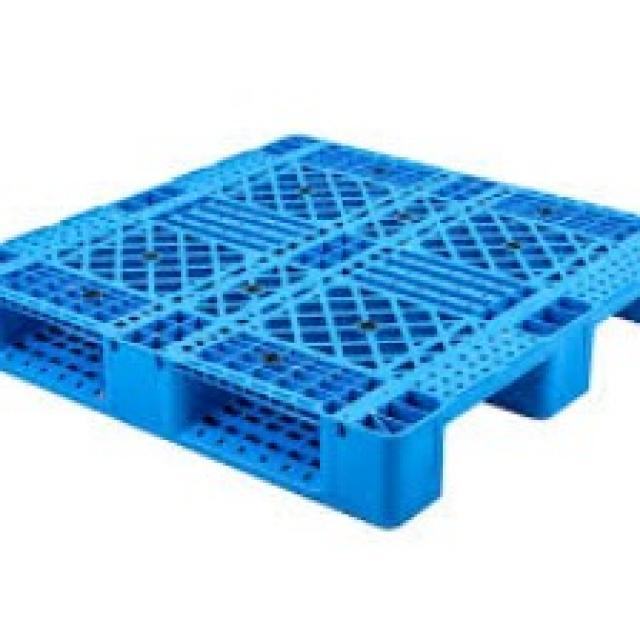plastic: (1, 194, 640, 495)
